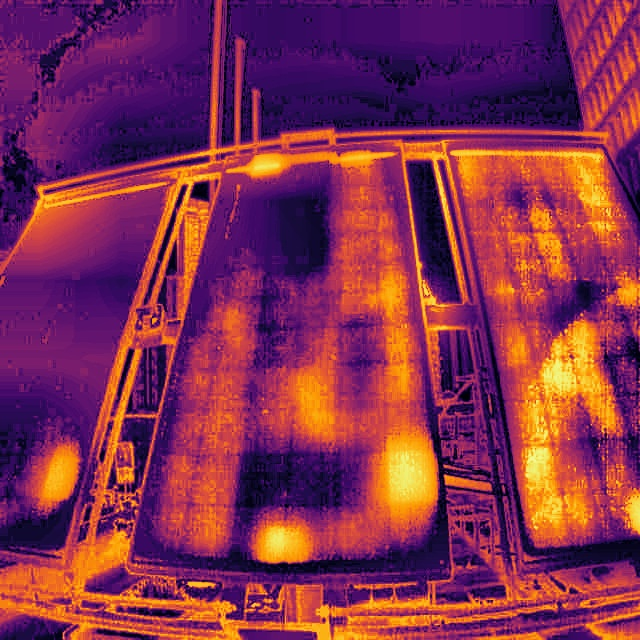Hotspot: (388, 442, 434, 502), (42, 444, 78, 500), (260, 522, 306, 562), (237, 154, 288, 176)
Mild: (43, 444, 78, 501), (260, 522, 306, 562)
Moderate: (388, 442, 434, 502)
Moderate-High: (251, 154, 285, 175)
healthy_panel: (133, 148, 449, 580), (448, 142, 639, 554), (0, 181, 174, 556)
